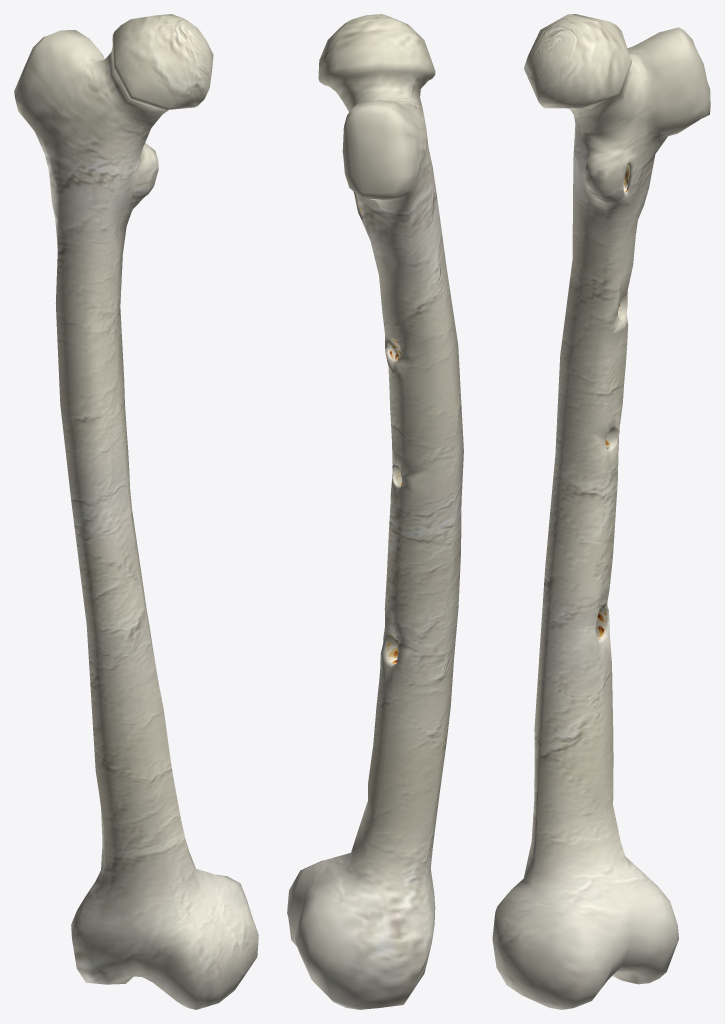
File: Femur_Bone_Flute.fbx
3 views of the same model, side by side, from view 1: azimuth 30°, elevation 25°; view 2: azimuth 150°, elevation 25°; view 3: azimuth 270°, elevation 25° (orthographic).
Parts seen in each view (by area): view 1: Bone_Flute; view 2: Bone_Flute; view 3: Bone_Flute.
Boxes of the visible parts, box(x1,y1,x2,y2) form: Bone_Flute: box(14, 14, 258, 1009); Bone_Flute: box(287, 14, 463, 1009); Bone_Flute: box(492, 14, 710, 1009).
Bounding box in the file's own units: 85.78 × 447 × 91.51.
